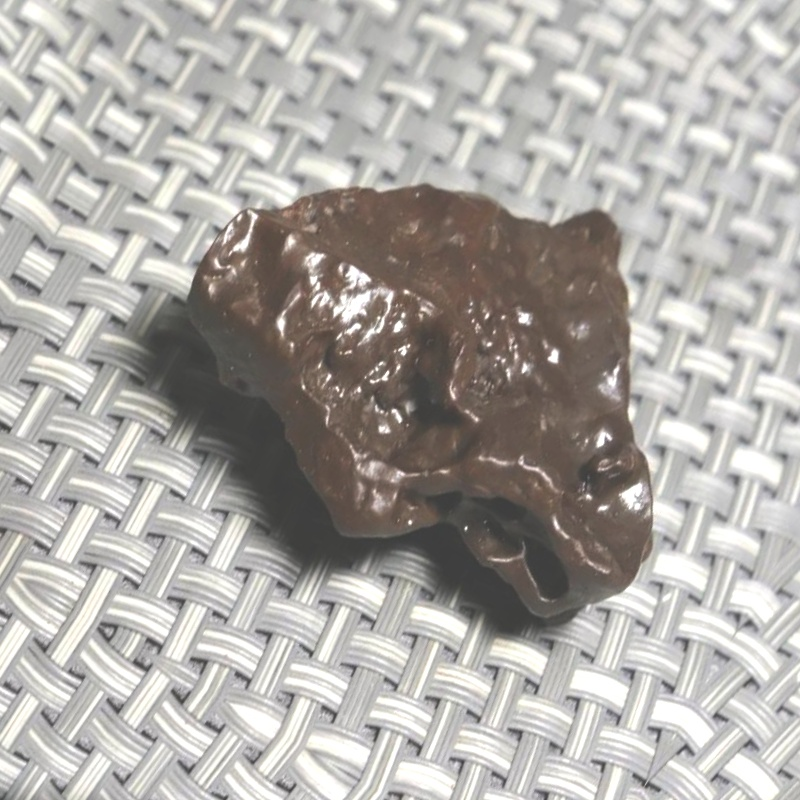halobolite: (98, 34, 800, 694)
